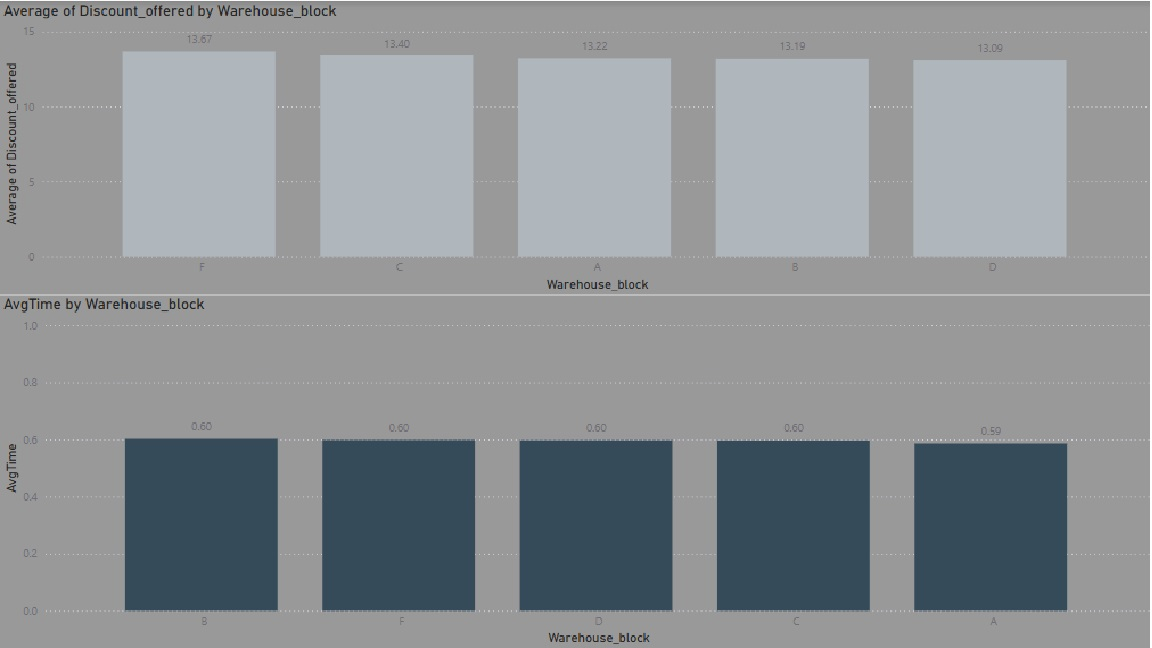

Layout of this report page (visuals, bound fields, positions):
{"tool":"powerbi","page":{"name":"Warehouse & Discounts","canvas":[1280,720],"ordinal":3},"visuals":[{"type":"columnChart","fields":{"Category":["Train.Warehouse_block"],"Y":["Avg(Train.Discount_offered)"]},"box":[0,0,1279.4,326.9],"z":0},{"type":"clusteredColumnChart","fields":{"Category":["Train.Warehouse_block"],"Y":["Train.AvgTime"]},"box":[0,326,1280,394],"z":1000}]}

Visuals, with their boxes in screenshot pixels (x1, y1, x2, y2), scaled from the page's 1280x720 canvas onto the 1152x648 screenshot:
columnChart - Train.Warehouse_block x Avg(Train.Discount_offered): [left=0, top=0, right=1151, bottom=294]
clusteredColumnChart - Train.Warehouse_block x Train.AvgTime: [left=0, top=293, right=1151, bottom=647]
